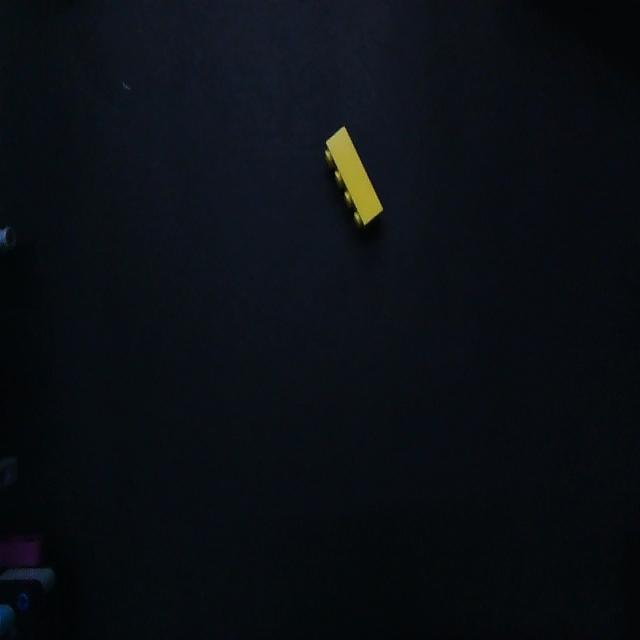lego_brick: (326, 127, 381, 225)
